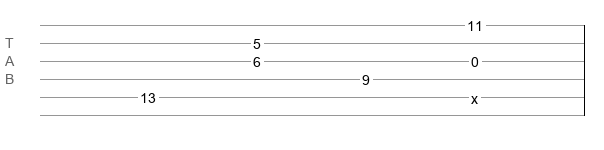0: (471, 54, 479, 64)
11: (467, 18, 483, 28)
13: (140, 90, 156, 100)
5: (253, 36, 261, 46)
6: (253, 54, 261, 64)
9: (362, 72, 370, 82)
x: (471, 91, 478, 99)
